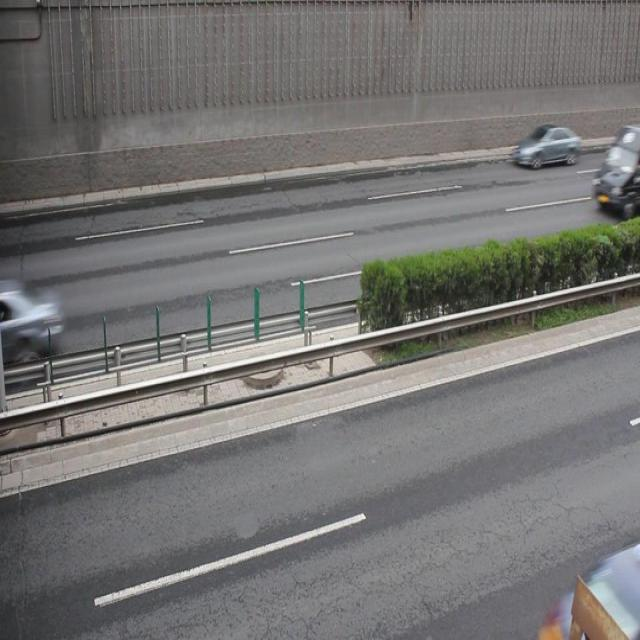car: (512, 122, 580, 165)
truck: (592, 126, 640, 216)
